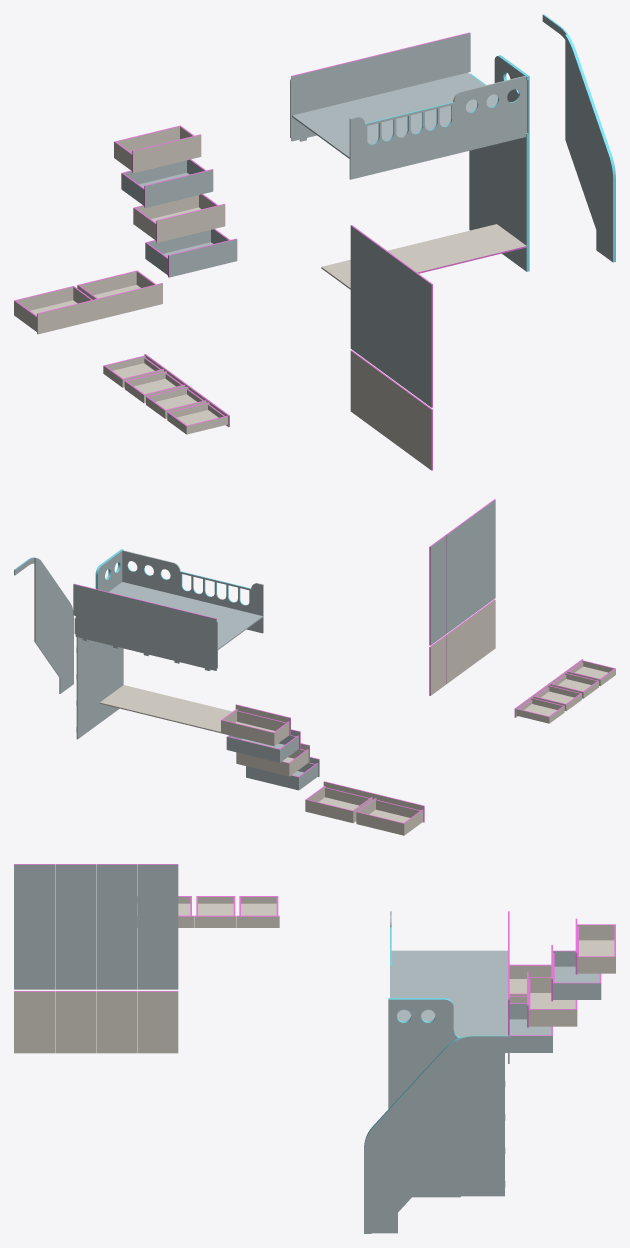
3 views of the same model, one above another, from view 1: azimuth 30°, elevation 25°; view 2: azimuth 150°, elevation 25°; view 3: azimuth 270°, elevation 25° (orthographic). The views are drawn at different scales.
Parts seen in each view (by area): view 1: Geom3D (×8), Geom3D_ABF_PART_19____LYR_[Layer0]____19. Giường tầng - Trên, Geom3D_ABF_PART_36____LYR_[Layer0]____36. Giường tầng - Trên, Geom3D_ABF_PART_20____LYR_[Layer0]____20. Giường tầng - Trên, Geom3D_ABF_PART_11____LYR_[Layer0]____11. Giường tầng - Dưới, Geom3D_ABF_PART_127____LYR_[Layer0]____127. Cầu thang - Tay , Geom3D_ABF_PART_6____LYR_[Layer0]____6. Giường tầng - Dưới -, Geom3D_ABF_PART_77____LYR_[_CÁNH]____77. Cầu thang - Mặt cán, Geom3D_ABF_PART_95____LYR_[_CÁNH]____95. Cầu thang - Mặt cán, Geom3D_ABF_PART_94____LYR_[_CÁNH]____94. Cầu thang - Mặt cán, Geom3D_ABF_PART_93____LYR_[_CÁNH]____93. Cầu thang - Mặt cán, Geom3D_ABF_PART_12____LYR_[_CÁNH]____12. Giường tầng - Dưới  (+7 smaller); view 2: Geom3D (×8), Geom3D_ABF_PART_36____LYR_[Layer0]____36. Giường tầng - Trên, Geom3D_ABF_PART_11____LYR_[Layer0]____11. Giường tầng - Dưới, Geom3D_ABF_PART_127____LYR_[Layer0]____127. Cầu thang - Tay , Geom3D_ABF_PART_19____LYR_[Layer0]____19. Giường tầng - Trên, Geom3D_ABF_PART_6____LYR_[Layer0]____6. Giường tầng - Dưới -, Geom3D_ABF_PART_20____LYR_[Layer0]____20. Giường tầng - Trên, Geom3D_ABF_PART_98____LYR_[_HỘC_KÉO]____98. Cầu thang - HK-T, Geom3D_ABF_PART_74____LYR_[_HỘC_KÉO]____74. Cầu thang - HK-T, Geom3D_ABF_PART_71____LYR_[_HỘC_KÉO]____71. Cầu thang - HK-T, Geom3D_ABF_PART_69____LYR_[_HỘC_KÉO]____69. Cầu thang - HK-T, Geom3D_ABF_PART_15____LYR_[_HỘC_KÉO]____15. Giường tầng - Dư (+2 smaller); view 3: Geom3D (×10), Geom3D_ABF_PART_127____LYR_[Layer0]____127. Cầu thang - Tay , Geom3D_ABF_PART_20____LYR_[Layer0]____20. Giường tầng - Trên, Geom3D_ABF_PART_11____LYR_[Layer0]____11. Giường tầng - Dưới, Geom3D_ABF_PART_17____LYR_[Layer0]____17. Giường tầng - Dưới, Geom3D_ABF_PART_125____LYR_[Layer0]____125. Cầu thang - Tay , Geom3D_ABF_PART_126____LYR_[Layer0]____126. Cầu thang - Tay , Geom3D_ABF_PART_83____LYR_[_HỘC_KÉO]____83. Cầu thang - HK-T, Geom3D_ABF_PART_102____LYR_[_HỘC_KÉO]____102. Cầu thang - HK, Geom3D_ABF_PART_65____LYR_[_HỘC_KÉO]____65. Cầu thang - HK-T, Geom3D_ABF_PART_80____LYR_[_HỘC_KÉO]____80. Cầu thang - HK-T, Geom3D_ABF_PART_82____LYR_[_HỘC_KÉO]____82. Cầu thang - HK-Đ (+5 smaller).
Part boxes in pixels (x1=…): Geom3D (×8): x1=350, y1=225, x2=431, y2=470; Geom3D_ABF_PART_19____LYR_[Layer0]____19. Giường tầng - Trên: x1=349, y1=76, x2=525, y2=179; Geom3D_ABF_PART_36____LYR_[Layer0]____36. Giường tầng - Trên: x1=290, y1=33, x2=470, y2=141; Geom3D_ABF_PART_20____LYR_[Layer0]____20. Giường tầng - Trên: x1=292, y1=72, x2=497, y2=158; Geom3D_ABF_PART_11____LYR_[Layer0]____11. Giường tầng - Dưới: x1=469, y1=56, x2=527, y2=271; Geom3D_ABF_PART_127____LYR_[Layer0]____127. Cầu thang - Tay : x1=565, y1=35, x2=612, y2=262; Geom3D_ABF_PART_6____LYR_[Layer0]____6. Giường tầng - Dưới -: x1=321, y1=224, x2=526, y2=289; Geom3D_ABF_PART_77____LYR_[_CÁNH]____77. Cầu thang - Mặt cán: x1=169, y1=239, x2=237, y2=277; Geom3D_ABF_PART_95____LYR_[_CÁNH]____95. Cầu thang - Mặt cán: x1=157, y1=204, x2=225, y2=242; Geom3D_ABF_PART_94____LYR_[_CÁNH]____94. Cầu thang - Mặt cán: x1=133, y1=135, x2=201, y2=173; Geom3D_ABF_PART_93____LYR_[_CÁNH]____93. Cầu thang - Mặt cán: x1=145, y1=170, x2=213, y2=207; Geom3D_ABF_PART_12____LYR_[_CÁNH]____12. Giường tầng - Dưới : x1=37, y1=299, x2=100, y2=334; Geom3D (×8): x1=430, y1=499, x2=495, y2=695; Geom3D_ABF_PART_36____LYR_[Layer0]____36. Giường tầng - Trên: x1=73, y1=584, x2=217, y2=670; Geom3D_ABF_PART_11____LYR_[Layer0]____11. Giường tầng - Dưới: x1=76, y1=550, x2=123, y2=739; Geom3D_ABF_PART_127____LYR_[Layer0]____127. Cầu thang - Tay : x1=34, y1=558, x2=73, y2=693; Geom3D_ABF_PART_19____LYR_[Layer0]____19. Giường tầng - Trên: x1=122, y1=550, x2=263, y2=633; Geom3D_ABF_PART_6____LYR_[Layer0]____6. Giường tầng - Dưới -: x1=99, y1=685, x2=232, y2=733; Geom3D_ABF_PART_20____LYR_[Layer0]____20. Giường tầng - Trên: x1=109, y1=582, x2=262, y2=649; Geom3D_ABF_PART_98____LYR_[_HỘC_KÉO]____98. Cầu thang - HK-T: x1=221, y1=720, x2=273, y2=744; Geom3D_ABF_PART_74____LYR_[_HỘC_KÉO]____74. Cầu thang - HK-T: x1=227, y1=737, x2=279, y2=761; Geom3D_ABF_PART_71____LYR_[_HỘC_KÉO]____71. Cầu thang - HK-T: x1=236, y1=752, x2=288, y2=774; Geom3D_ABF_PART_69____LYR_[_HỘC_KÉO]____69. Cầu thang - HK-T: x1=246, y1=766, x2=298, y2=788; Geom3D_ABF_PART_15____LYR_[_HỘC_KÉO]____15. Giường tầng - Dư: x1=356, y1=812, x2=403, y2=834; Geom3D (×10): x1=14, y1=864, x2=279, y2=1053; Geom3D_ABF_PART_127____LYR_[Layer0]____127. Cầu thang - Tay : x1=371, y1=1046, x2=460, y2=1233; Geom3D_ABF_PART_20____LYR_[Layer0]____20. Giường tầng - Trên: x1=391, y1=950, x2=507, y2=1037; Geom3D_ABF_PART_11____LYR_[Layer0]____11. Giường tầng - Dưới: x1=461, y1=1043, x2=504, y2=1196; Geom3D_ABF_PART_17____LYR_[Layer0]____17. Giường tầng - Dưới: x1=388, y1=999, x2=460, y2=1197; Geom3D_ABF_PART_125____LYR_[Layer0]____125. Cầu thang - Tay : x1=364, y1=1088, x2=414, y2=1233; Geom3D_ABF_PART_126____LYR_[Layer0]____126. Cầu thang - Tay : x1=409, y1=1036, x2=509, y2=1092; Geom3D_ABF_PART_83____LYR_[_HỘC_KÉO]____83. Cầu thang - HK-T: x1=528, y1=1009, x2=577, y2=1026; Geom3D_ABF_PART_102____LYR_[_HỘC_KÉO]____102. Cầu thang - HK: x1=553, y1=983, x2=601, y2=999; Geom3D_ABF_PART_65____LYR_[_HỘC_KÉO]____65. Cầu thang - HK-T: x1=505, y1=1036, x2=552, y2=1052; Geom3D_ABF_PART_80____LYR_[_HỘC_KÉO]____80. Cầu thang - HK-T: x1=577, y1=957, x2=615, y2=973; Geom3D_ABF_PART_82____LYR_[_HỘC_KÉO]____82. Cầu thang - HK-Đ: x1=554, y1=966, x2=599, y2=982.
Bounding box in the file's own units: 6.7 × 2.25 × 6.21.
